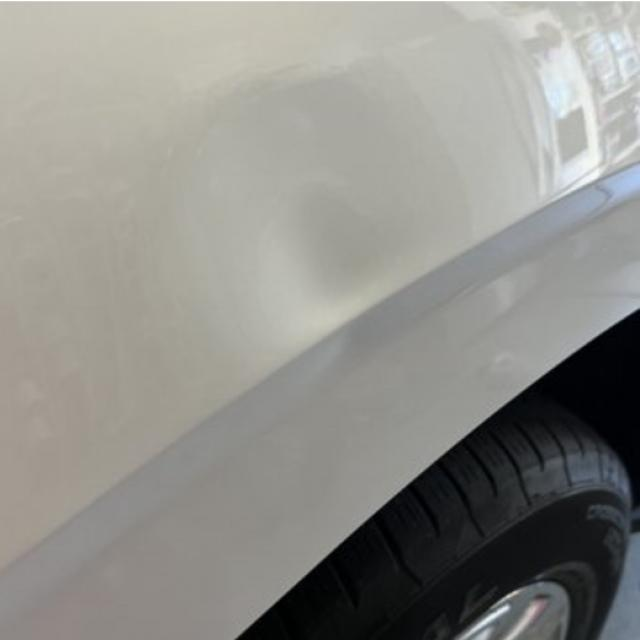dents: (241, 144, 419, 337)
